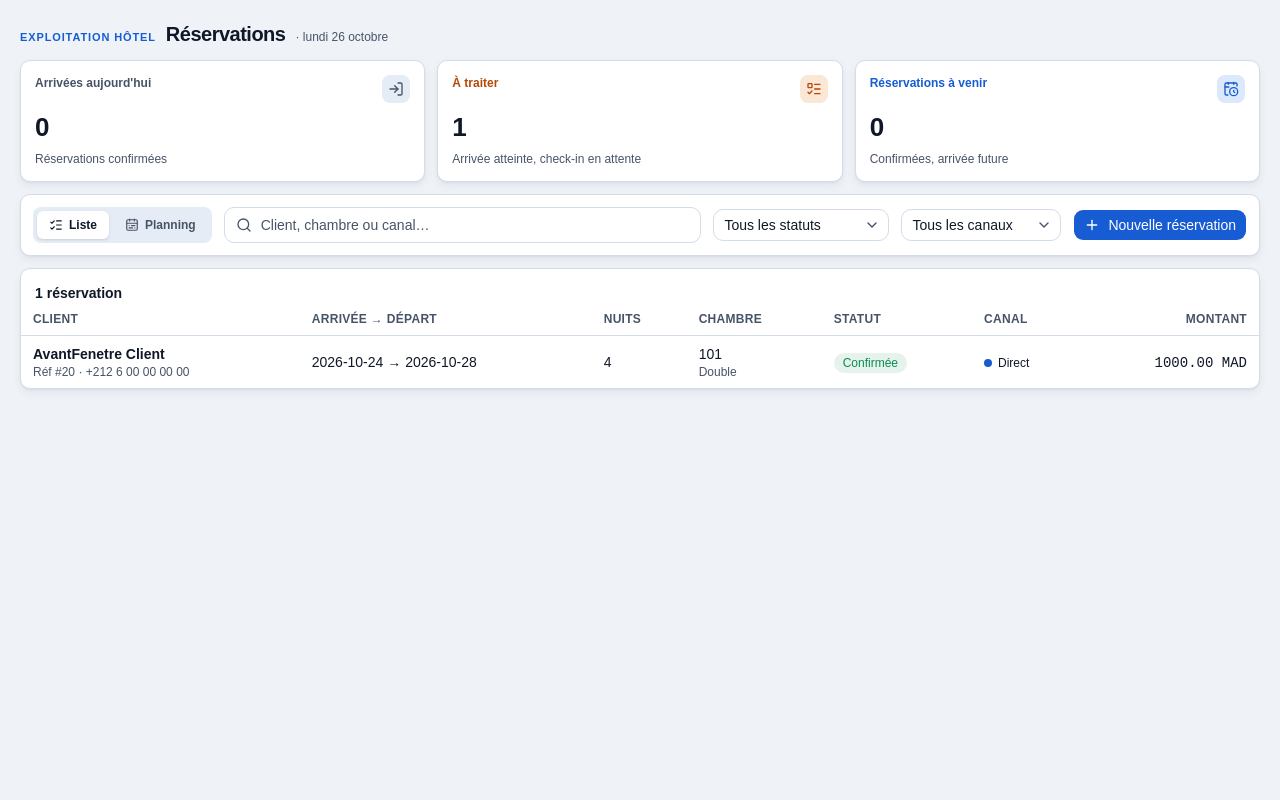
it: ReservationsCalendarPage — panneau contextuel › propose le check-in pour une réservation confirmée déjà arrivée
Click the button with aria-label "Ouvrir la réservation de AvantFenetre Client" at (77, 354), box [21,336,1259,388]
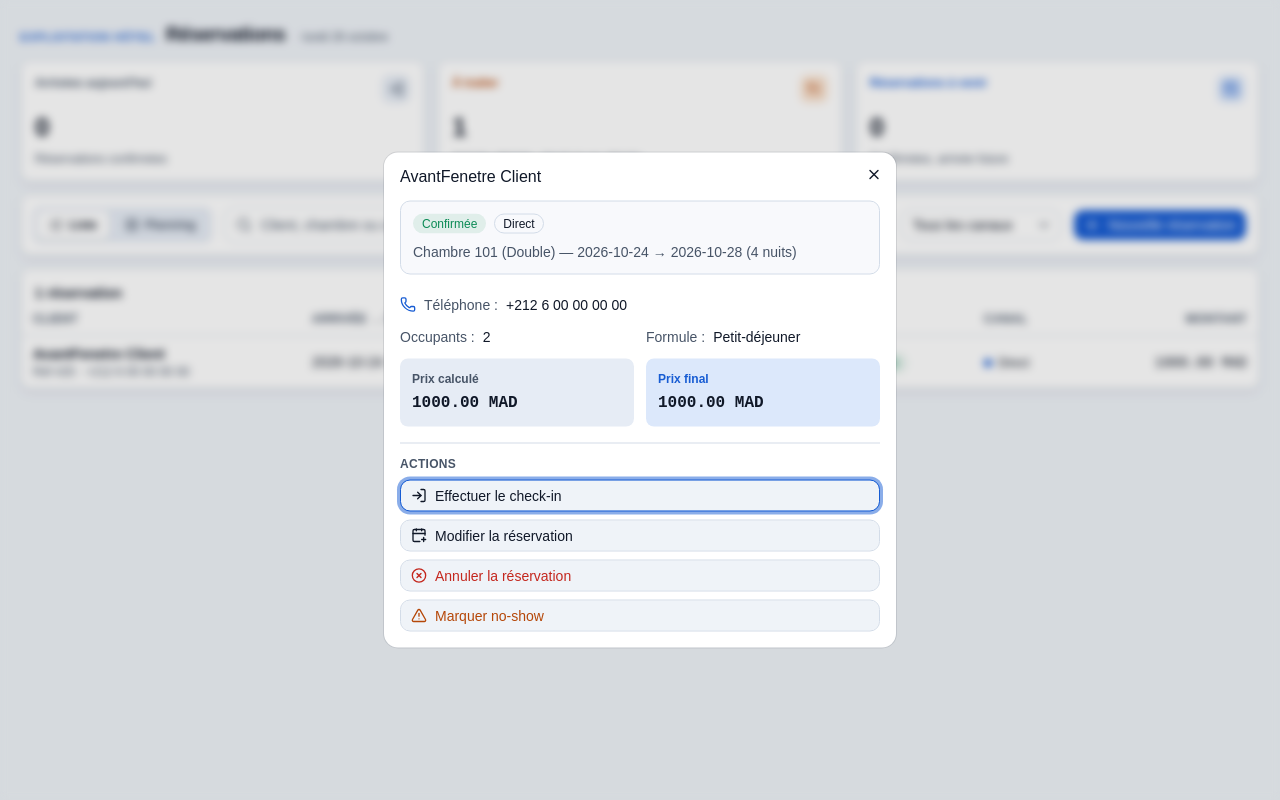
Click the button "Effectuer le check-in" at (498, 496), box [400,480,880,512]
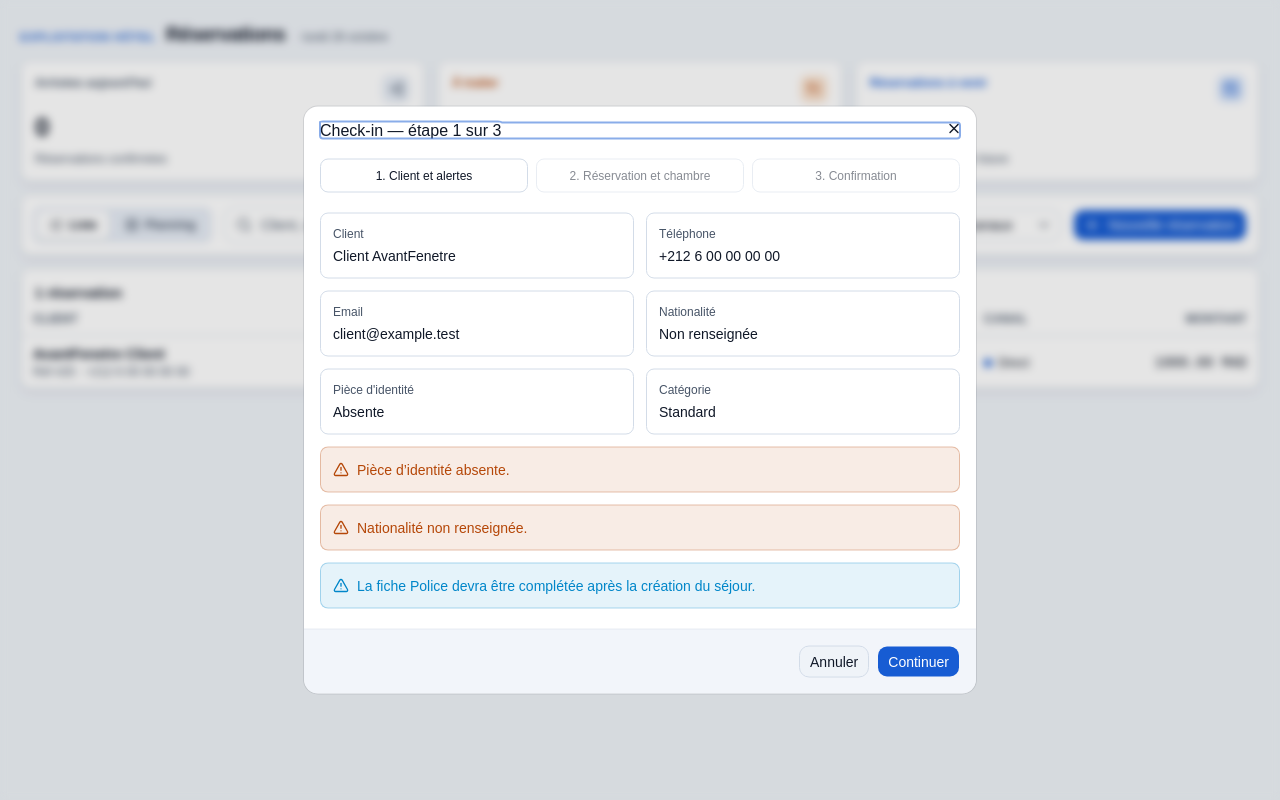
Expected: the heading "Check-in — étape 1 sur 3" is shown, [320,122,501,138]
